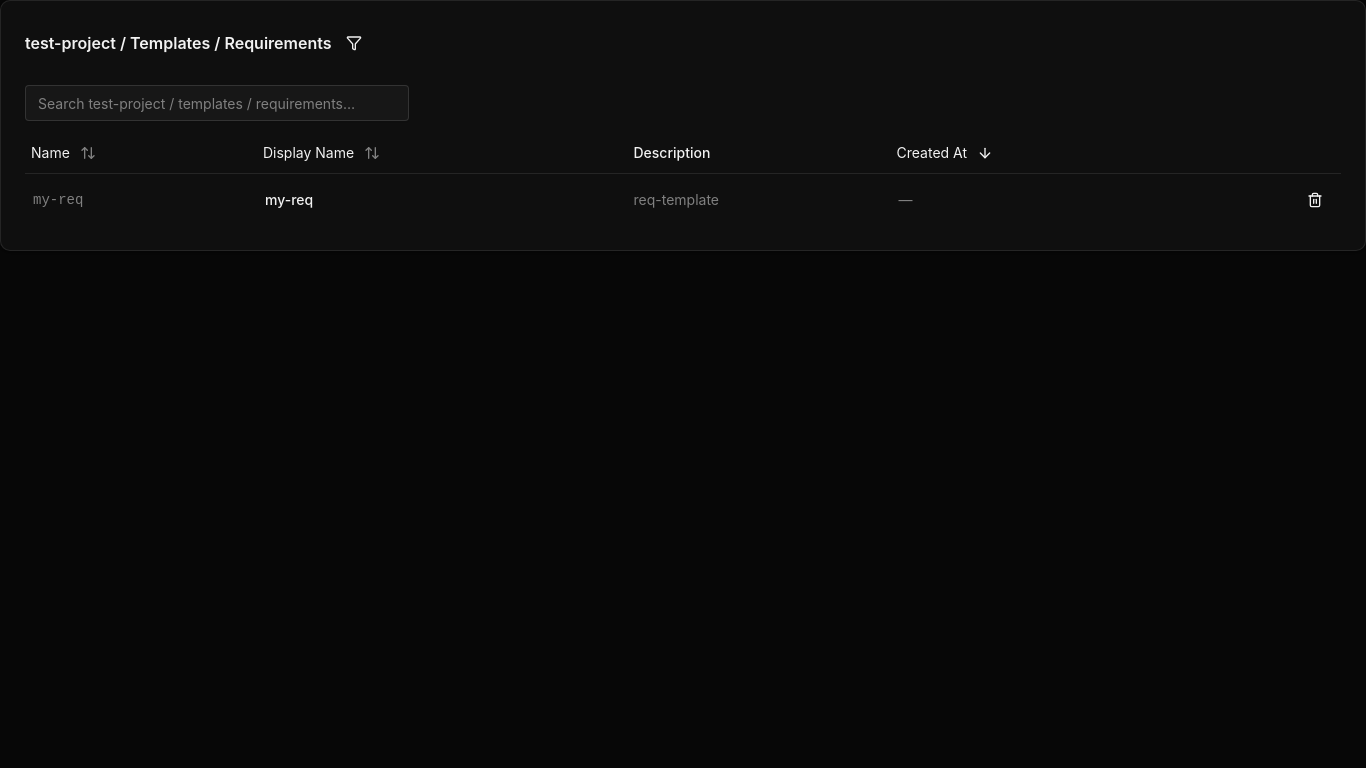
Test: TemplateRequirementsIndexPage (HOL-1013) › delete button opens ConfirmDeleteDialog
Click the button named "delete my-req". click: x=1315, y=200
box: x1=1297 y1=182 x2=1333 y2=218
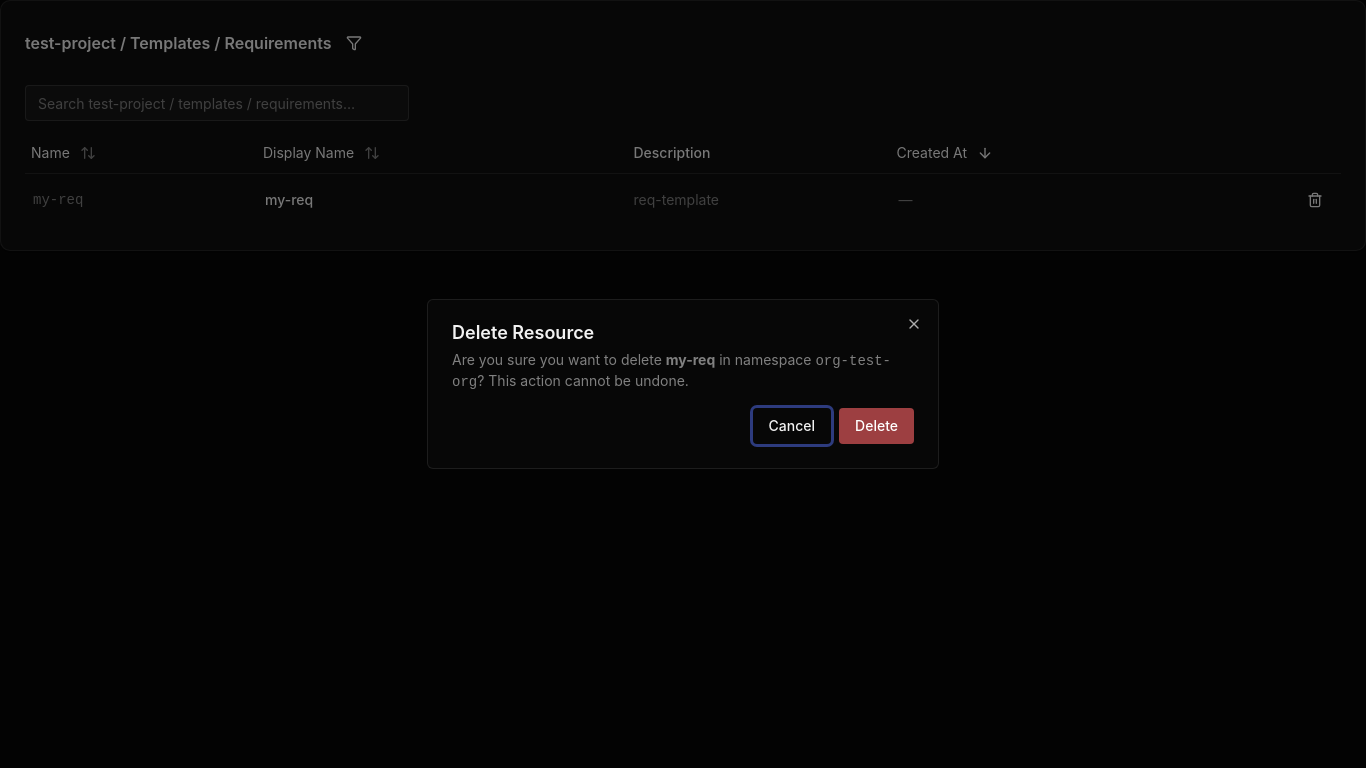
expect the dialog is shown: met, box x1=427 y1=299 x2=939 y2=469
